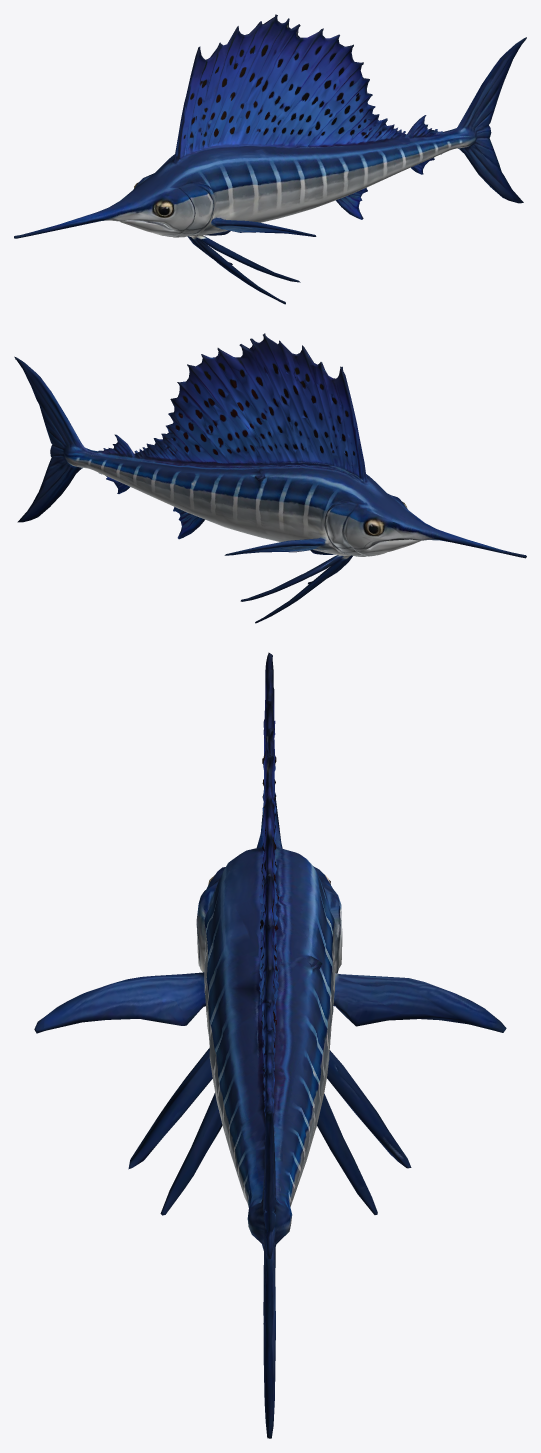
The model's file is fish-parusnik.glb.
The picture shows the model from 3 angles, top to bottom: view 1: azimuth 30°, elevation 25°; view 2: azimuth 150°, elevation 25°; view 3: azimuth 270°, elevation 25°; orthographic projection. The views are drawn at different scales.
Parts seen in each view (by area): view 1: tripo_node_2e3094d8-b98c-440f-82fc-3a6742e2f8b1; view 2: tripo_node_2e3094d8-b98c-440f-82fc-3a6742e2f8b1; view 3: tripo_node_2e3094d8-b98c-440f-82fc-3a6742e2f8b1.
Boxes of the visible parts, x1,y1,x2,y2 form: tripo_node_2e3094d8-b98c-440f-82fc-3a6742e2f8b1: (14, 14, 526, 304); tripo_node_2e3094d8-b98c-440f-82fc-3a6742e2f8b1: (14, 333, 526, 623); tripo_node_2e3094d8-b98c-440f-82fc-3a6742e2f8b1: (34, 652, 506, 1438).
Size of the model in its own units: 1 by 0.4963 by 0.3993.
1 material, 1 textured.
